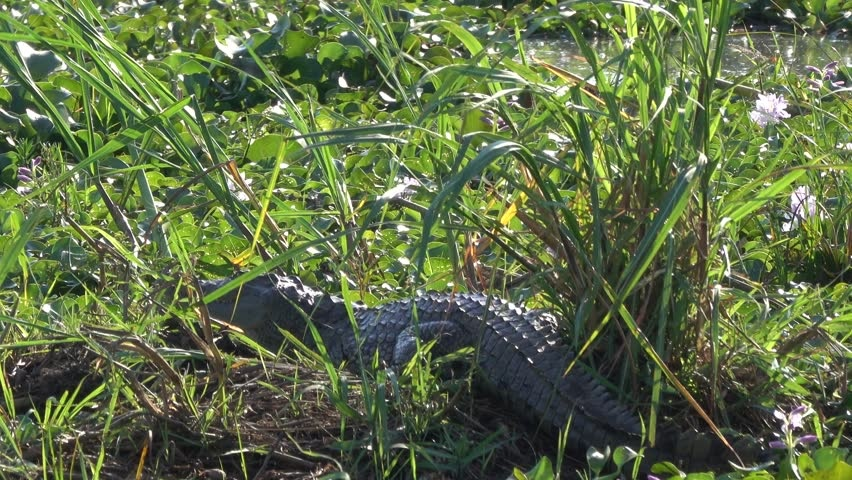crocodile: (157, 257, 836, 470)
